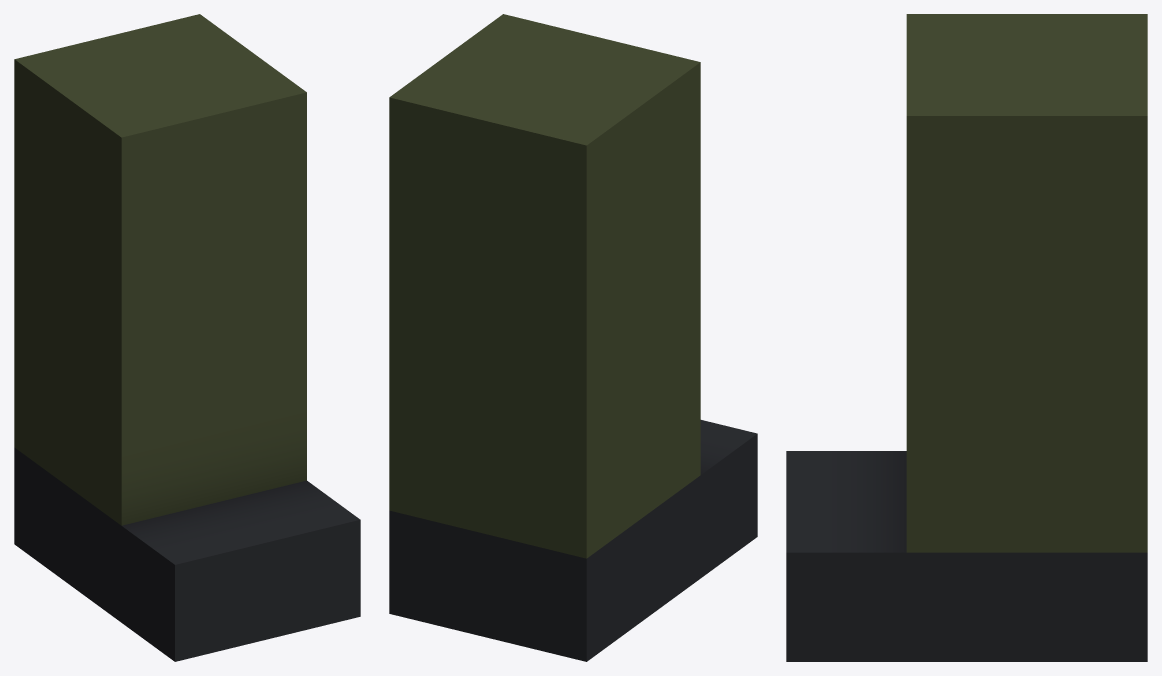
The model's file is cm_leg.glb.
The picture shows the model from 3 angles, left to right: view 1: azimuth 30°, elevation 25°; view 2: azimuth 150°, elevation 25°; view 3: azimuth 270°, elevation 25°; orthographic projection. The views are drawn at different scales.
Parts seen in each view (by area): view 1: cm_leg_body; view 2: cm_leg_body; view 3: cm_leg_body.
Boxes of the visible parts, box(x1,y1,x2,y2) form: cm_leg_body: box(14, 14, 360, 661); cm_leg_body: box(389, 14, 757, 661); cm_leg_body: box(786, 14, 1147, 661).
Bounding box in the file's own units: 0.125 × 0.3125 × 0.1875.
1 material, 1 textured.
